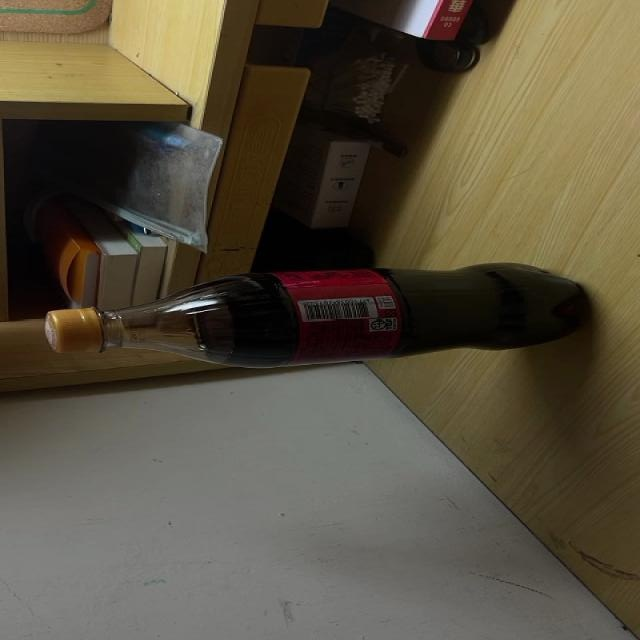Coca-Cola: (43, 260, 586, 368)
